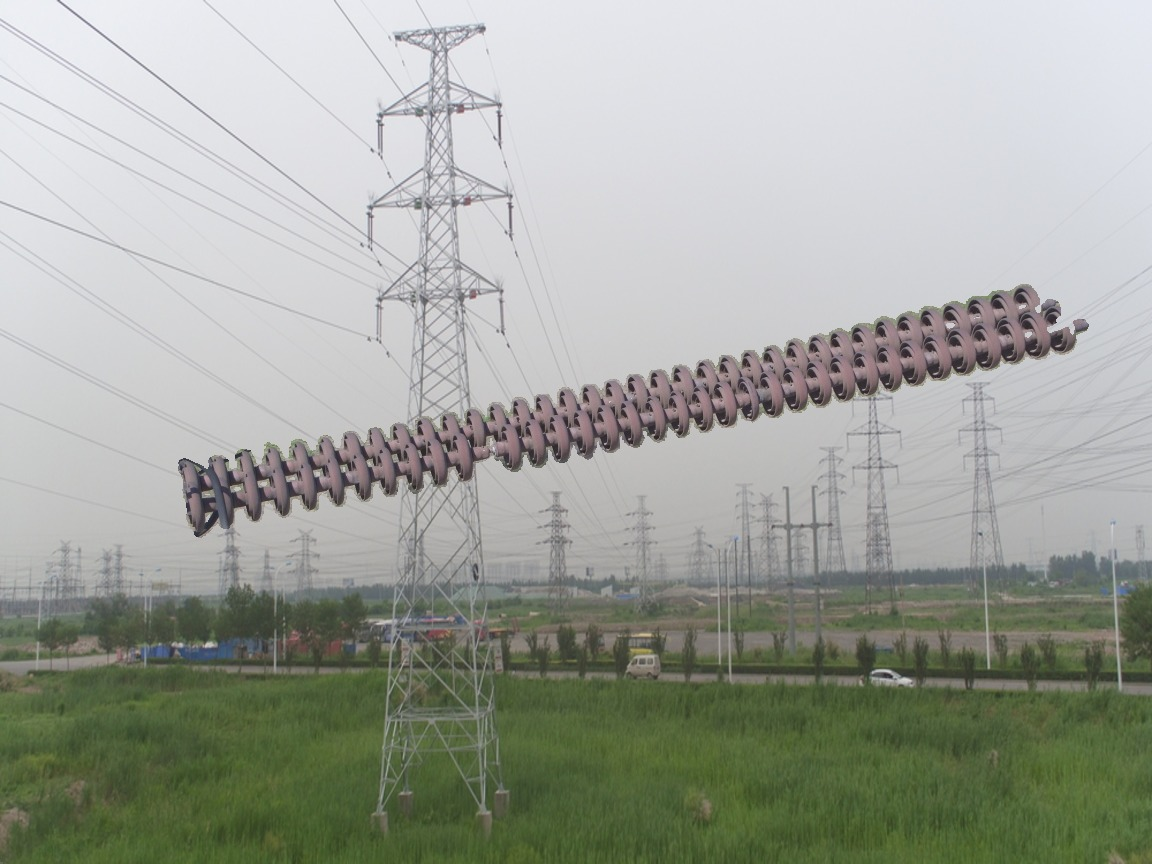defect: (447, 422, 525, 483)
